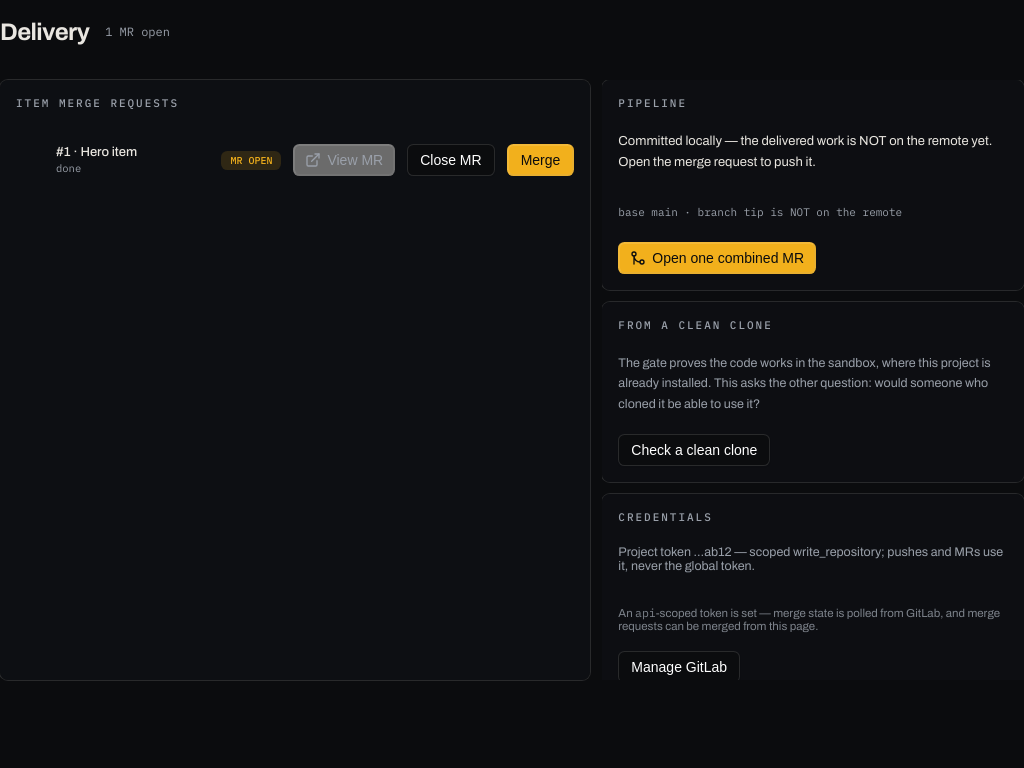
Test: merging an item MR from the console (#109) › a running pipeline offers auto-merge, NOT a plain merge
Click the button "Merge".
click(540, 160)  # box left=507, top=144, right=574, bottom=176
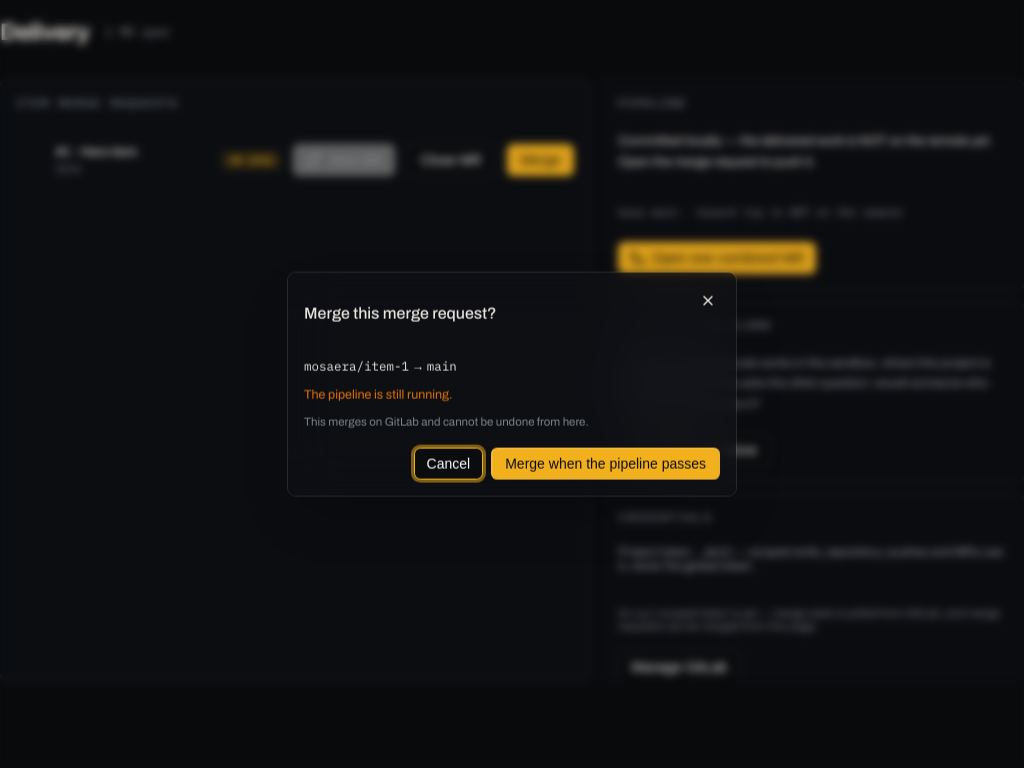
Now the text "The pipeline is still running." is shown, box left=304, top=387, right=452, bottom=401
Now the button "Merge when the pipeline passes" is shown, box left=491, top=447, right=720, bottom=479
